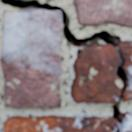brick: (1, 11, 61, 107), (74, 0, 131, 26)
broken_brick: (70, 45, 120, 104), (3, 114, 116, 131), (120, 39, 131, 78), (123, 111, 131, 131), (122, 85, 131, 102)
crack: (0, 0, 131, 131)
